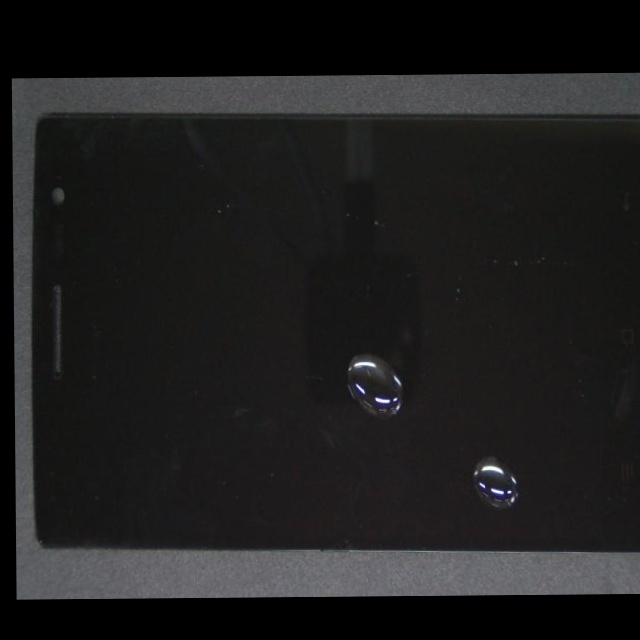oil: (265, 253, 640, 597), (233, 231, 577, 508)
